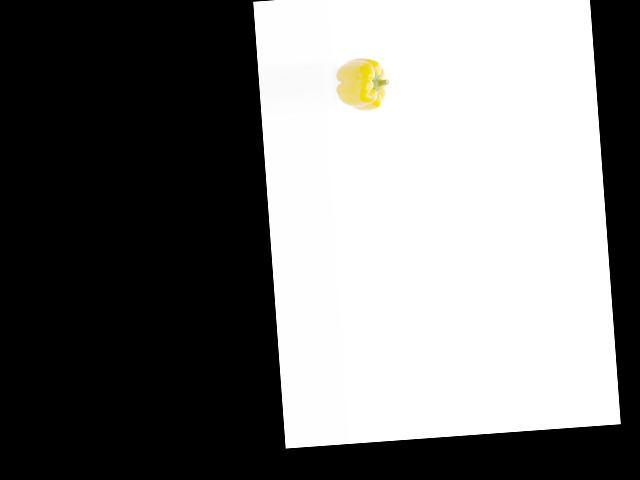bell_pepper: (333, 56, 393, 116)
